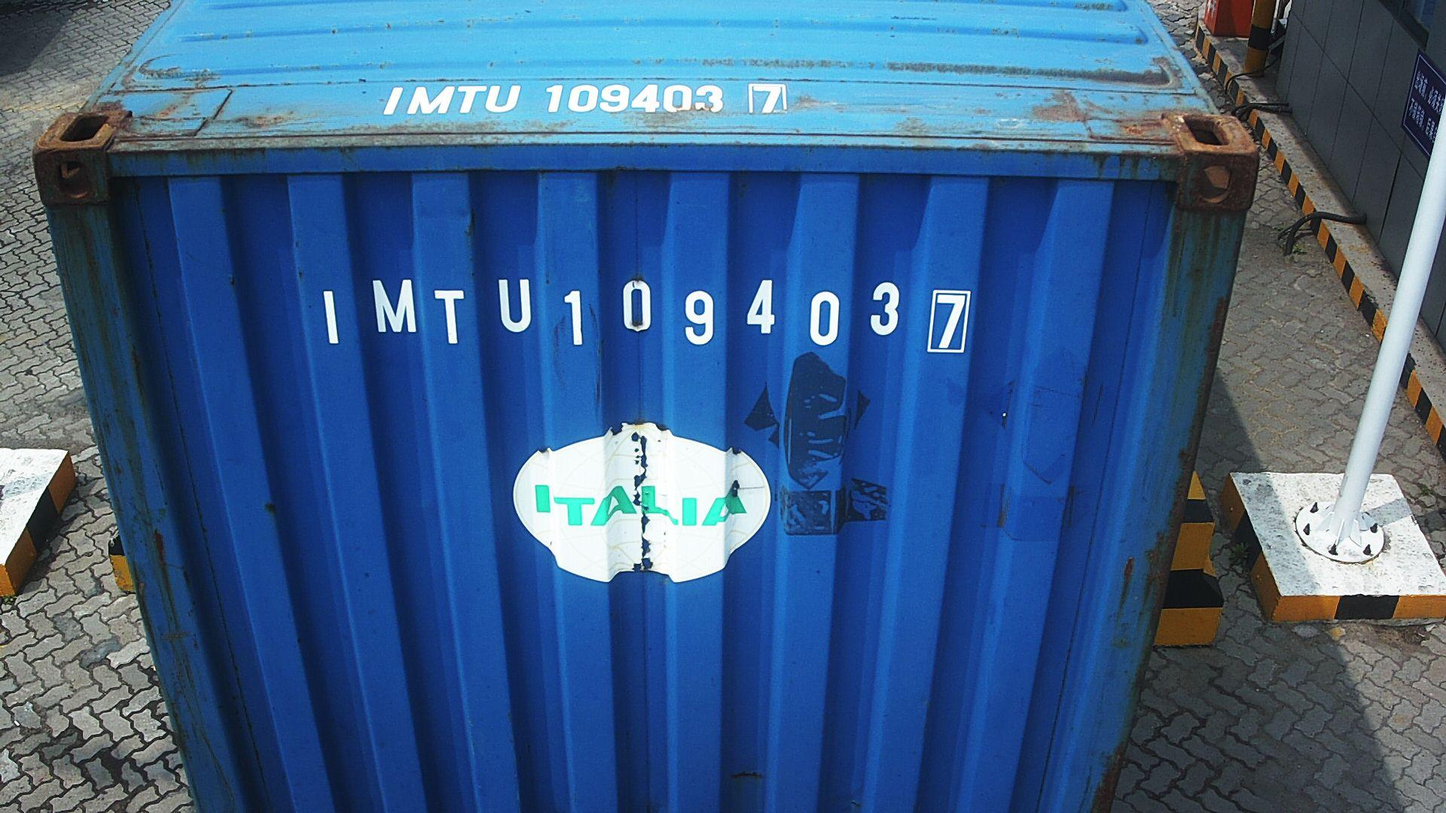container-numbers: (307, 273, 973, 357), (371, 78, 797, 120)
